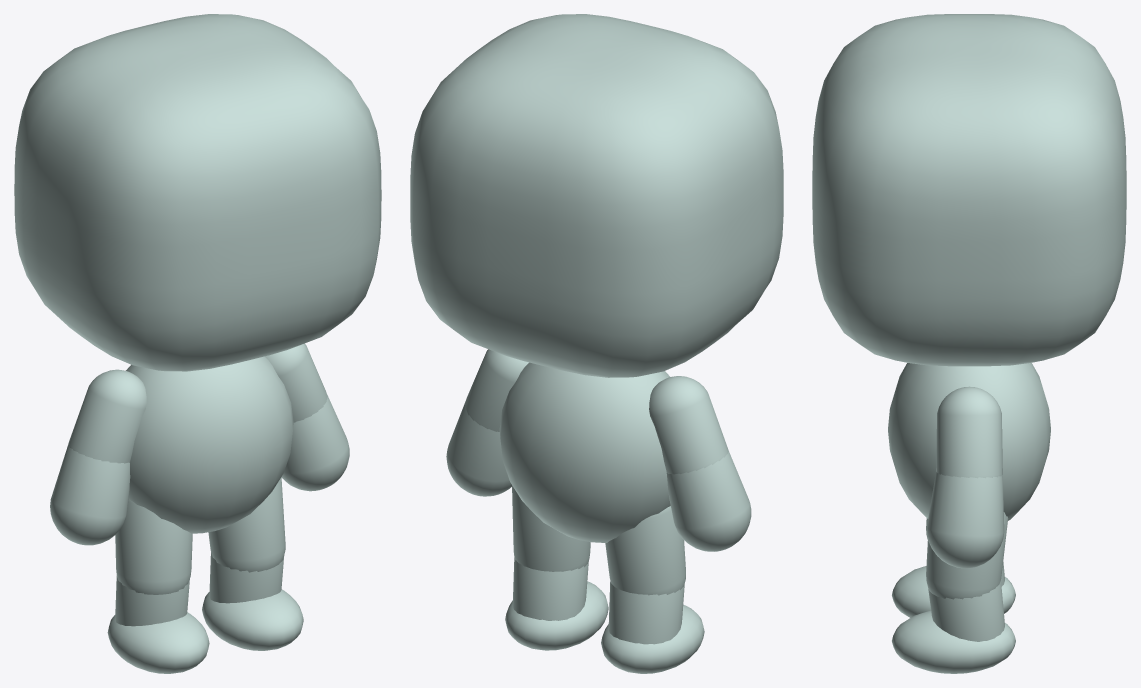
Rendered from bonequinho.glb.
3 views of the same model, side by side, from view 1: azimuth 30°, elevation 25°; view 2: azimuth 150°, elevation 25°; view 3: azimuth 270°, elevation 25° (orthographic).
Parts seen in each view (by area): view 1: Cabeça, Tronco, Antebraço, Coxa, Braço superior, Pé.001, Pé, Coxa.001, Antebraço.001, Braço superior.001, Canela, Canela.001; view 2: Cabeça, Tronco, Antebraço, Braço superior, Coxa, Antebraço.001, Canela, Canela.001, Coxa.001, Pé.001, Pé, Braço superior.001; view 3: Cabeça, Tronco, Antebraço.001, Braço superior.001, Pé.001, Canela.001, Coxa.001, Pé.
Part boxes in pixels (x1,y1,x2,y2): Cabeça: (14,14,381,371); Tronco: (126,356,293,533); Antebraço: (50,445,130,545); Coxa: (115,499,192,594); Braço superior: (68,369,146,463); Pé.001: (202,589,303,650); Pé: (107,612,209,673); Coxa.001: (208,477,285,572); Antebraço.001: (281,394,349,491); Braço superior.001: (265,343,327,422); Canela: (115,576,189,626); Canela.001: (209,552,283,603); Cabeça: (410,14,783,377); Tronco: (499,362,670,542); Antebraço: (666,451,751,551); Braço superior: (649,376,728,474); Coxa: (605,506,685,595); Antebraço.001: (446,401,511,496); Canela: (608,581,684,644); Canela.001: (512,557,588,620); Coxa.001: (512,485,590,571); Pé.001: (505,581,608,650); Pé: (601,604,704,673); Braço superior.001: (465,349,528,431); Cabeça: (812,14,1126,366); Tronco: (888,363,1050,520); Antebraço.001: (927,472,1004,568); Braço superior.001: (936,386,1002,478); Pé.001: (892,610,1015,673); Canela.001: (928,580,1004,641); Coxa.001: (926,512,1008,599); Pé: (892,566,1015,617).
Bounding box in the file's own units: 0.8648 × 1.69 × 0.8084.
